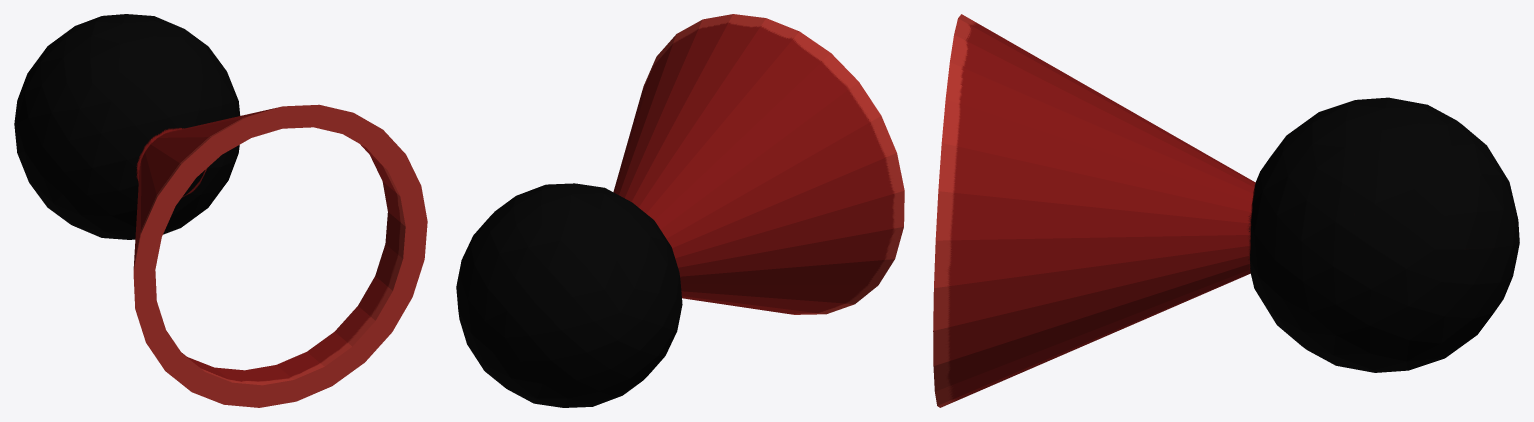
File: airhorn.paint.glb
3 renders of one model, left to right at view 1: azimuth 30°, elevation 25°; view 2: azimuth 150°, elevation 25°; view 3: azimuth 270°, elevation 25°, orthographic. The views are drawn at different scales.
Visible parts, largest first — view 1: mesh_id28; view 2: mesh_id28; view 3: mesh_id28.
Boxes of the visible parts, left/top/right/bottom form: mesh_id28: left=14, top=14, right=427, bottom=407; mesh_id28: left=456, top=14, right=904, bottom=407; mesh_id28: left=933, top=14, right=1519, bottom=407.
Size of the model in its own units: 0.5222 by 0.5238 by 0.7792.
Materials: 1 (1 with a texture image).
